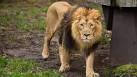lion: (40, 3, 102, 77)
